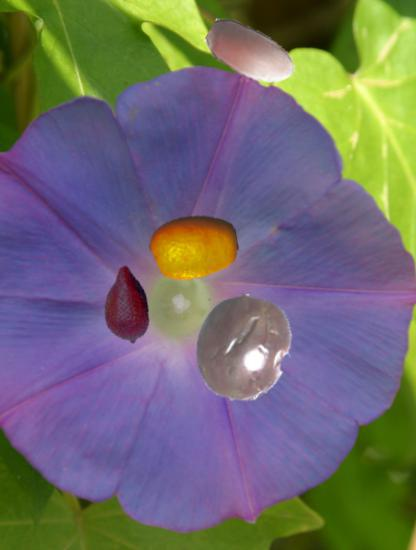Hazelnut: (203, 6, 300, 103)
Kumquats: (150, 203, 239, 292)
Passion: (188, 294, 298, 404)
Salak: (85, 265, 166, 346)
